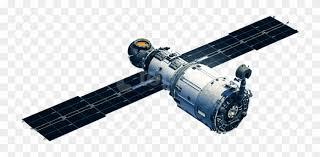antenna: (233, 62, 254, 82)
body: (126, 36, 255, 136)
solar: (20, 70, 168, 144), (177, 14, 300, 70)
